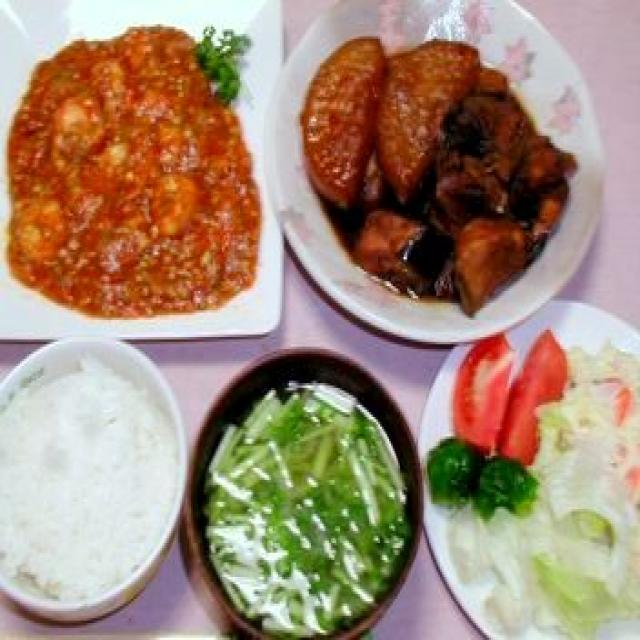熟制海鲜: (0, 0, 285, 339)
